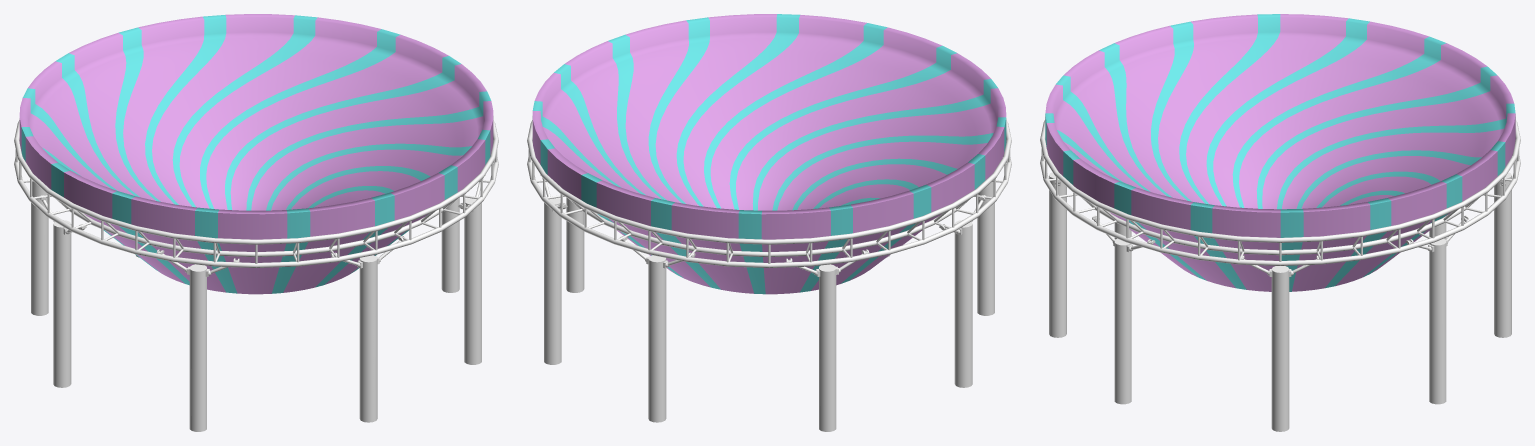
The model's file is Trichter.fbx.
The picture shows the model from 3 angles, left to right: view 1: azimuth 30°, elevation 25°; view 2: azimuth 150°, elevation 25°; view 3: azimuth 270°, elevation 25°; orthographic projection.
Parts seen in each view (by area): view 1: Cylinder.333; view 2: Cylinder.333; view 3: Cylinder.333.
Part boxes in pixels (x1=…): Cylinder.333: x1=14, y1=14, x2=498, y2=431; Cylinder.333: x1=527, y1=14, x2=1011, y2=431; Cylinder.333: x1=1040, y1=14, x2=1520, y2=431.
Size of the model in its own units: 3768 by 1909 by 3768.
